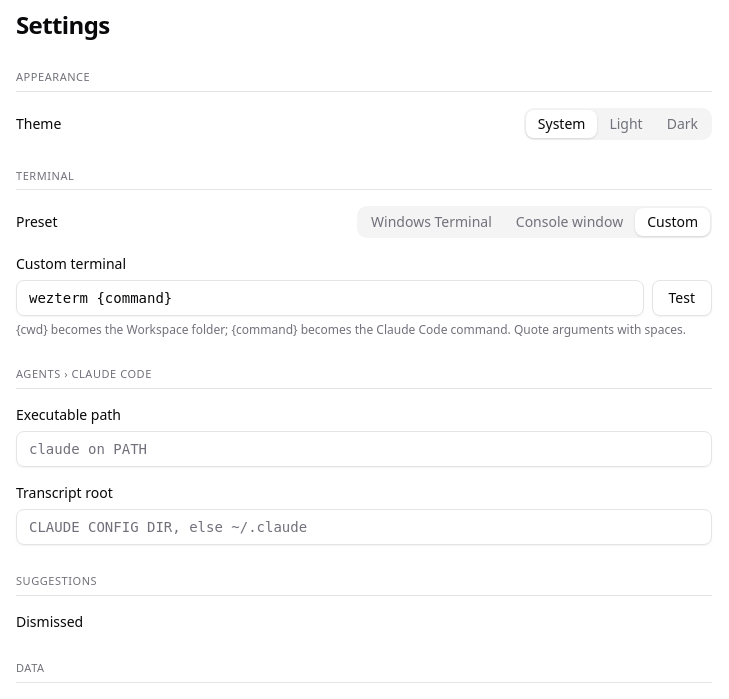
Test: Settings › Terminal › shows why a test launch failed
Click the button "Test". click: {"x": 682, "y": 298}
box: left=652, top=280, right=712, bottom=316
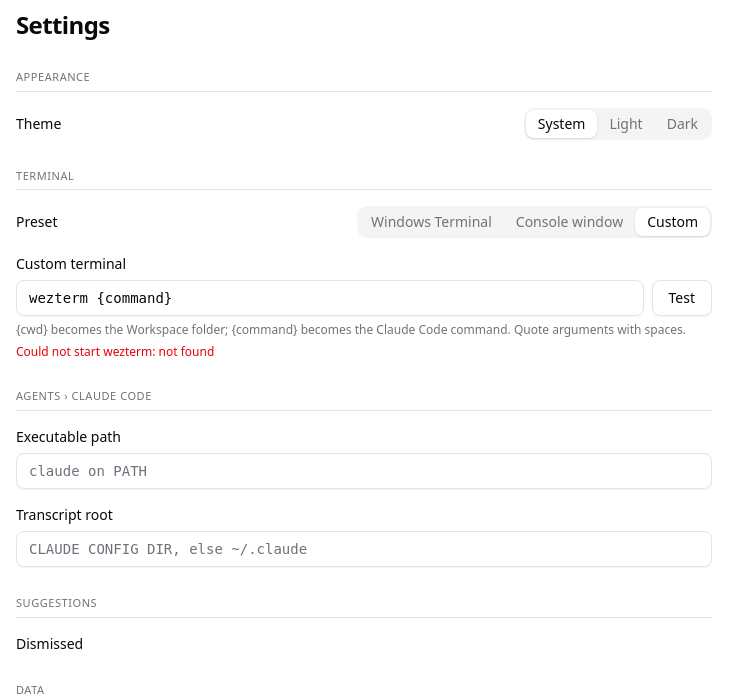
expect the message reads "Could not start wezterm: not found": met, box left=16, top=343, right=214, bottom=360
